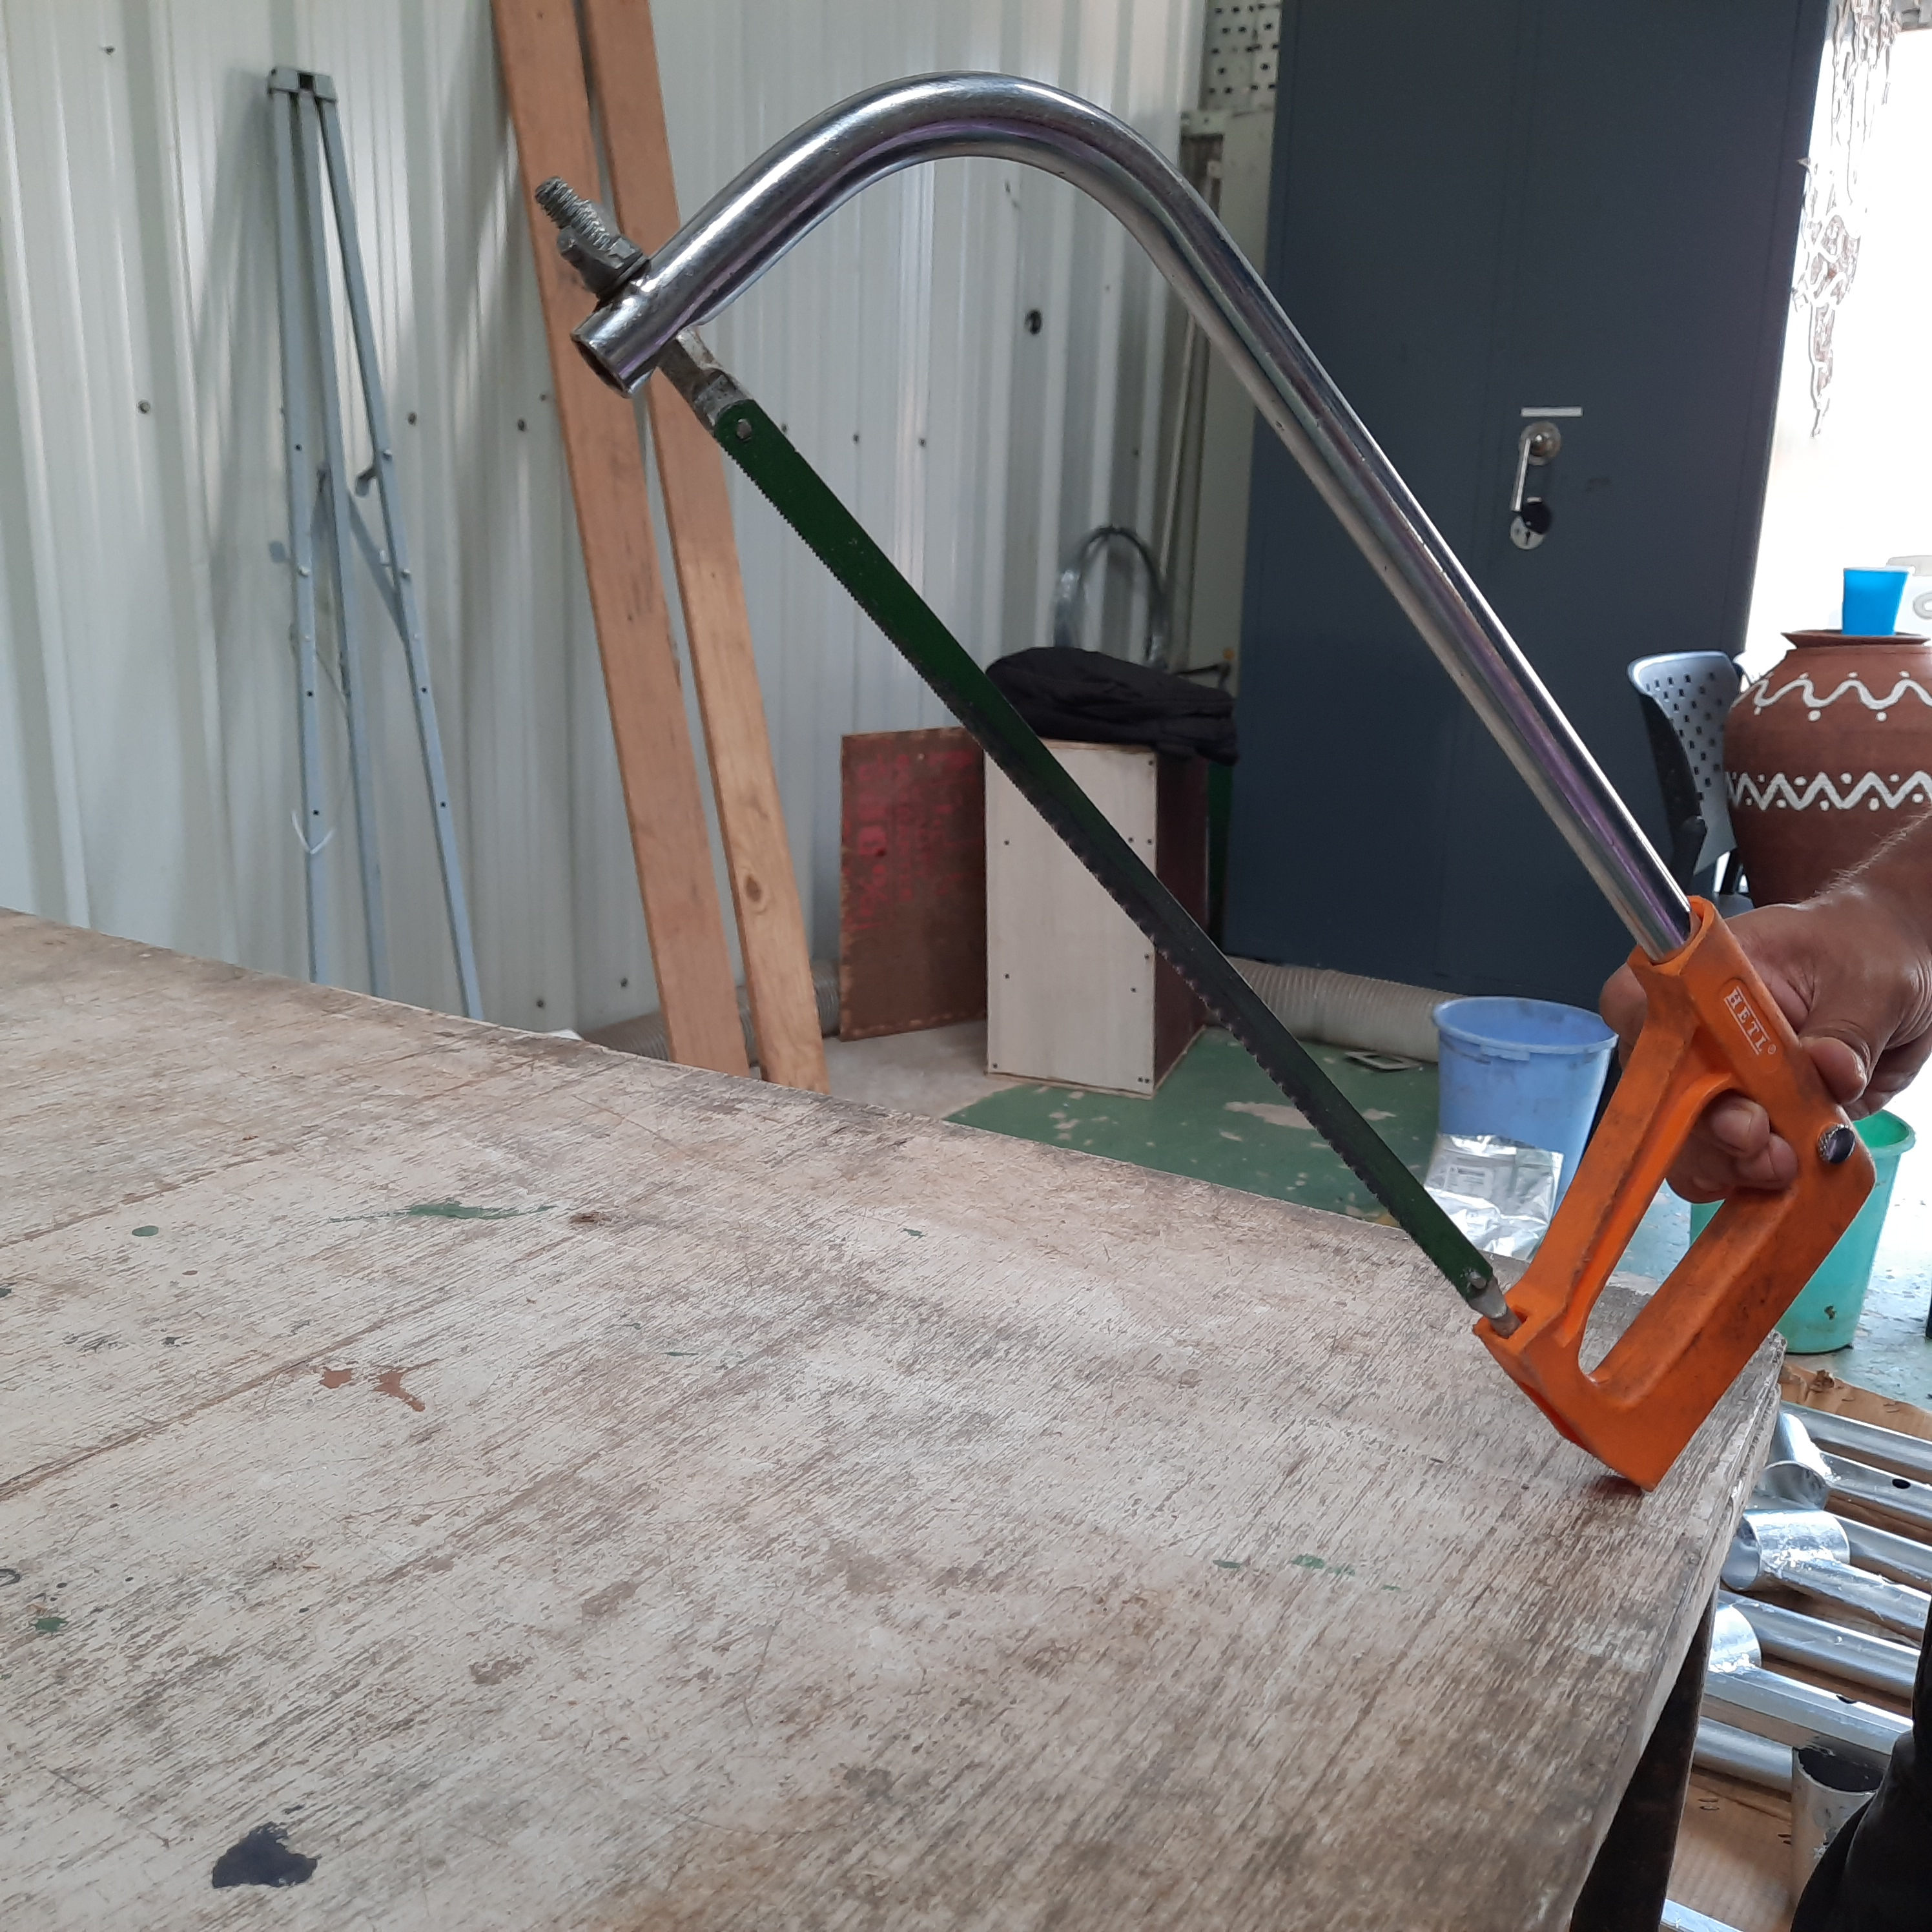Hexaframe: (527, 53, 1884, 1548)
